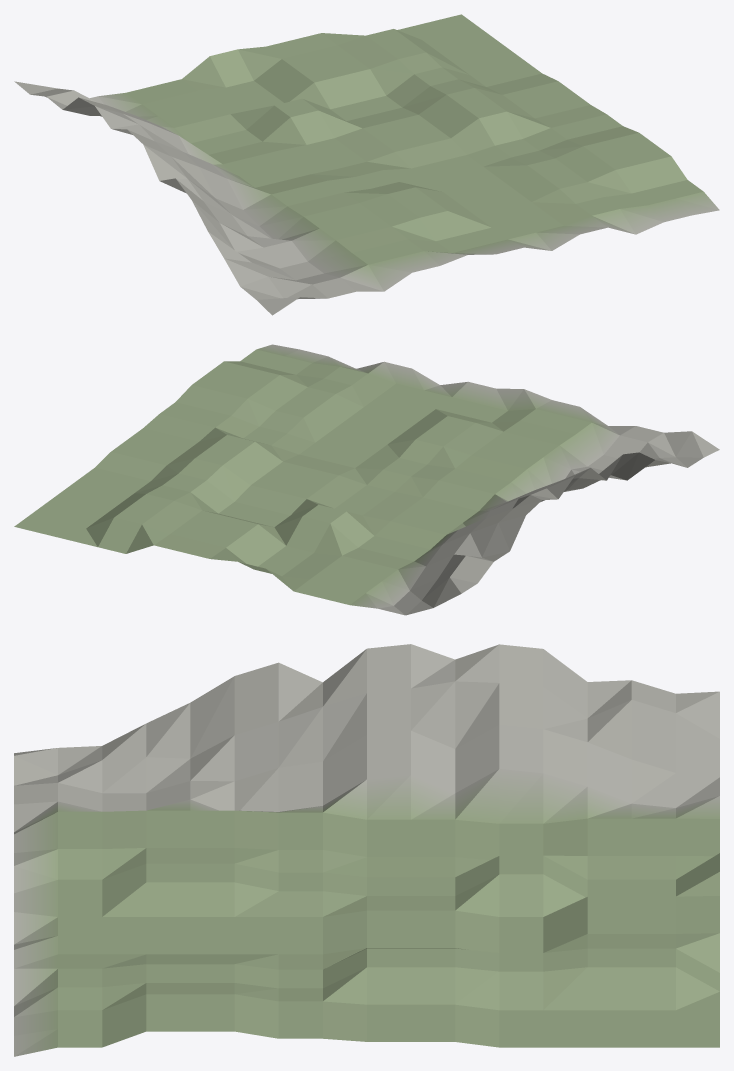
The picture shows the model from 3 angles, top to bottom: view 1: azimuth 30°, elevation 25°; view 2: azimuth 150°, elevation 25°; view 3: azimuth 270°, elevation 25°; orthographic projection. The views are drawn at different scales.
Bounding box in the file's own units: 32 × 5.99 × 32.
